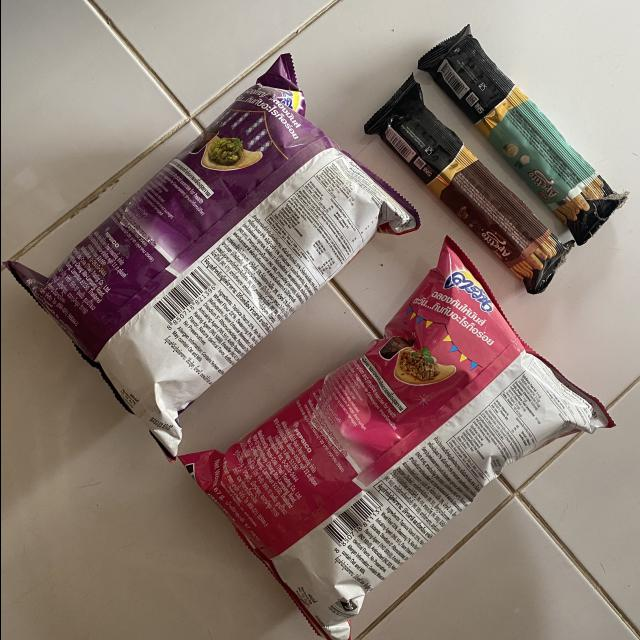plastik: (178, 238, 613, 640), (4, 54, 420, 461), (364, 75, 573, 294), (417, 26, 625, 245)
